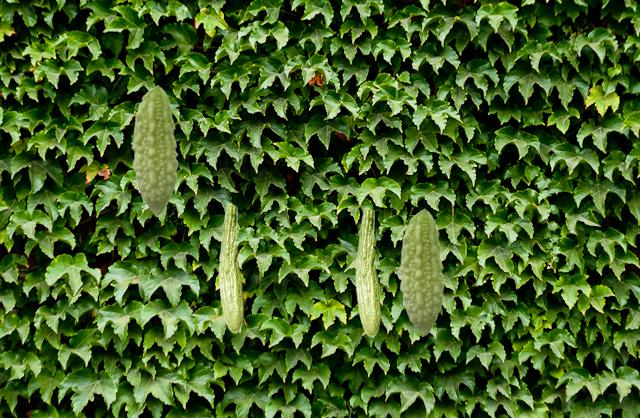ampalaya: (131, 84, 178, 217), (398, 208, 445, 337), (218, 203, 244, 333), (355, 207, 381, 337)
